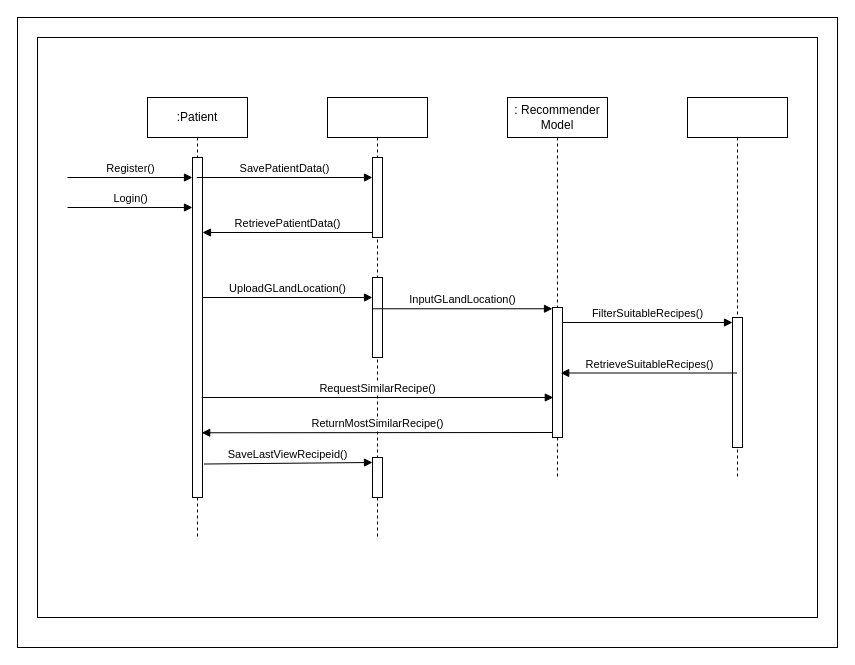
This 855x665 diagram has some shape labels left out. The centre of each missing label's shape, as x and y in pixels:
": Recipe Database" goes at pixel 737 287.
":Database" goes at pixel 377 317.
